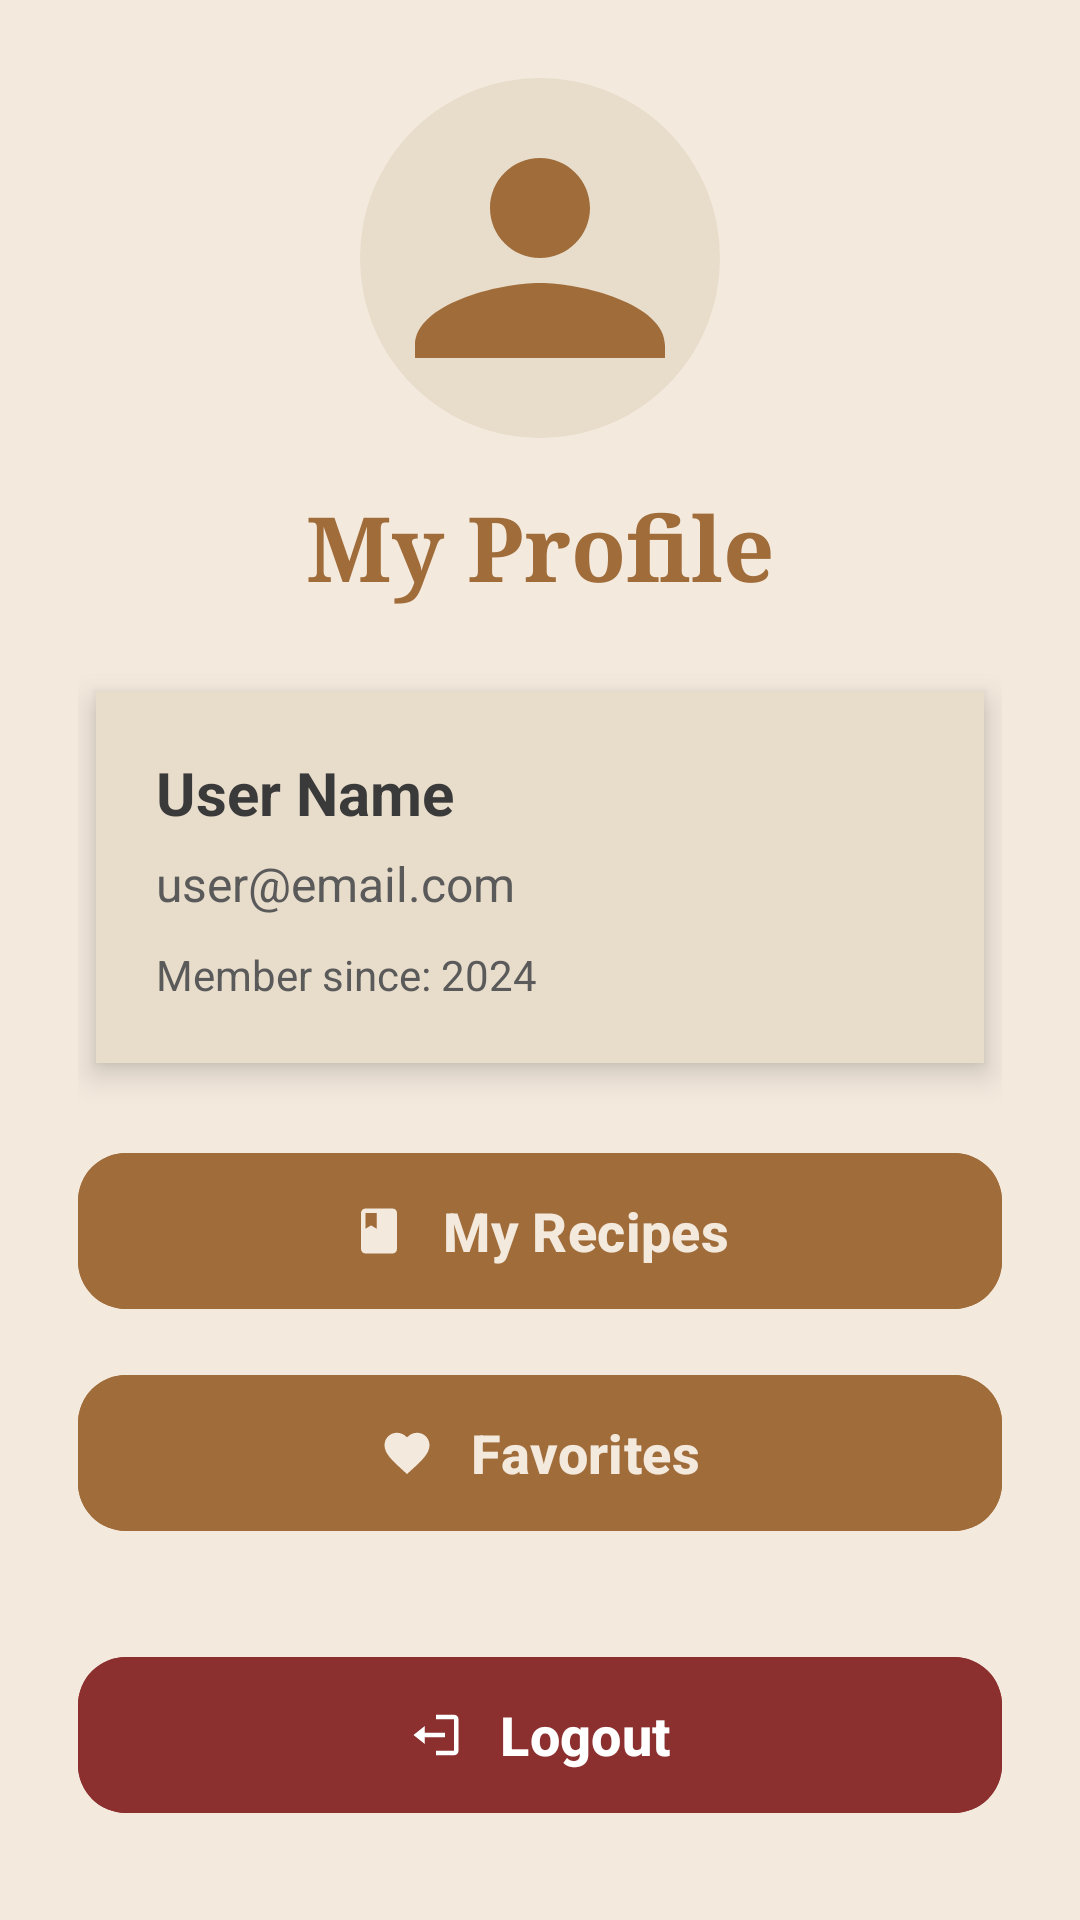

Named icons in this screenshot (1080px×1920px) and their centers, (x,y):
user: (540,258)
